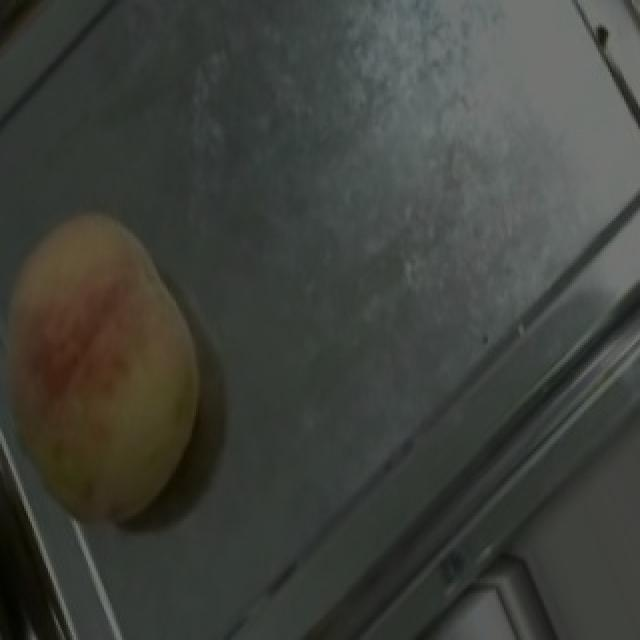Fruit: (0, 171, 248, 521)
